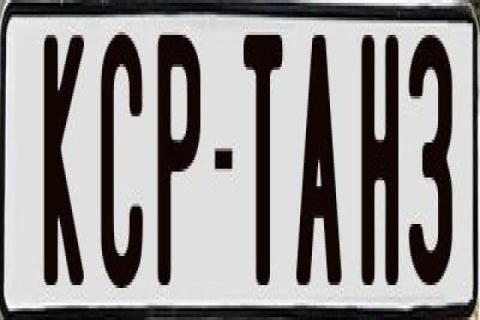0: (406, 29, 456, 291)
A: (294, 32, 344, 300)
C: (98, 32, 142, 302)
H: (360, 35, 404, 291)
K: (44, 26, 88, 282)
P: (158, 27, 206, 280)
T: (242, 35, 286, 299)
